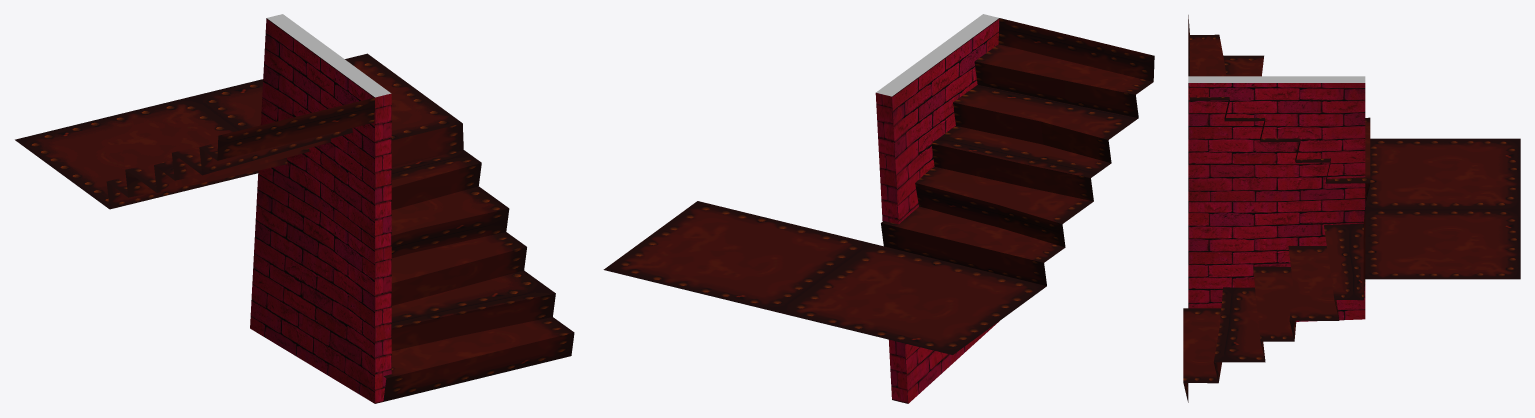
File: TreppeMitTrennwandGedreht [Dunkelbraun]_1142.glb
3 renders of one model, left to right at view 1: azimuth 30°, elevation 25°; view 2: azimuth 150°, elevation 25°; view 3: azimuth 270°, elevation 25°, orthographic. The views are drawn at different scales.
Parts seen in each view (by area): view 1: pPlaneShape17, pPlaneShape21, pPlaneShape1, pPlaneShape19, pPlaneShape23, pPlaneShape18; view 2: pPlaneShape19, pPlaneShape1, pPlaneShape21, pPlaneShape22, pPlaneShape18; view 3: pPlaneShape21, pPlaneShape1, pPlaneShape17, pPlaneShape19, pPlaneShape18.
Part boxes in pixels (x1,y1,x2,y2): pPlaneShape17: (383, 123, 574, 401); pPlaneShape21: (250, 18, 374, 403); pPlaneShape1: (15, 53, 462, 208); pPlaneShape19: (106, 97, 374, 209); pPlaneShape23: (375, 93, 391, 403); pPlaneShape18: (267, 14, 391, 97); pPlaneShape19: (881, 18, 1154, 285); pPlaneShape1: (603, 201, 1046, 354); pPlaneShape21: (892, 18, 999, 403); pPlaneShape22: (875, 93, 908, 403); pPlaneShape18: (876, 14, 998, 96); pPlaneShape21: (1188, 83, 1365, 321); pPlaneShape1: (1365, 138, 1520, 279); pPlaneShape17: (1183, 207, 1365, 402); pPlaneShape19: (1188, 15, 1370, 203); pPlaneShape18: (1188, 76, 1365, 82).
Size of the model in its own units: 0.4693 by 0.3891 by 0.4763.
Materials: 8 (7 with a texture image).
